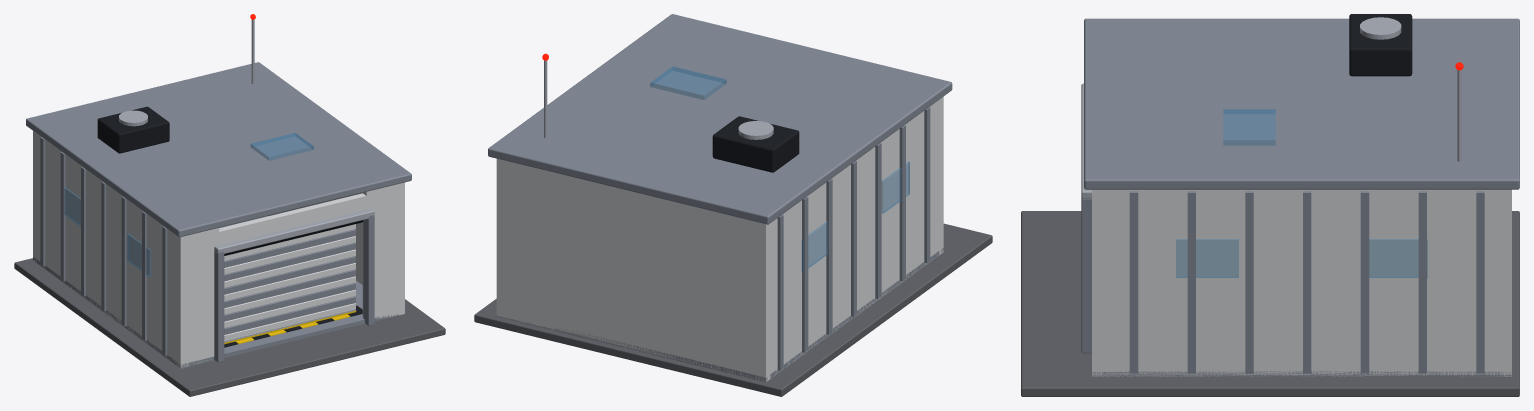
The model's file is garage.glb.
3 renders of one model, left to right at view 1: azimuth 30°, elevation 25°; view 2: azimuth 150°, elevation 25°; view 3: azimuth 270°, elevation 25°, orthographic. The views are drawn at different scales.
Visible parts, largest first — view 1: GAR_Body, RollDoor; view 2: GAR_Body; view 3: GAR_Body.
Part boxes in pixels (box(x1,y1,x2,y2)): GAR_Body: box(14, 14, 445, 396); RollDoor: box(224, 224, 356, 344); GAR_Body: box(474, 14, 992, 396); GAR_Body: box(1021, 14, 1519, 396).
Bounding box in the file's own units: 8 × 6.48 × 9.5.
